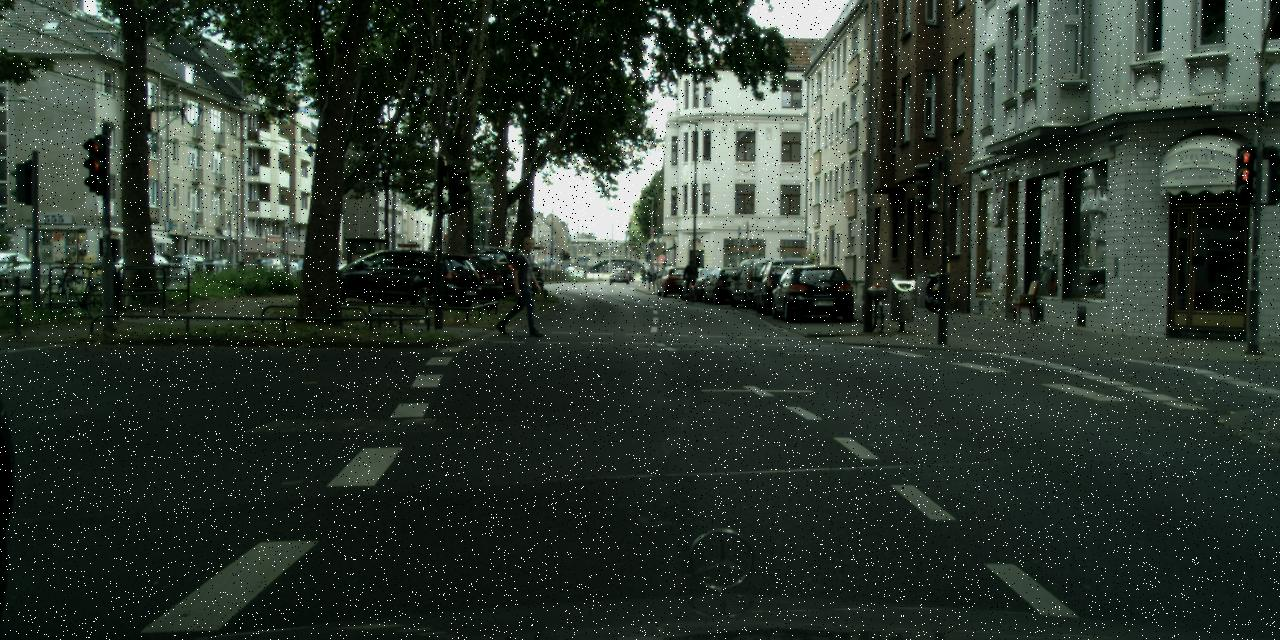ped: (504, 236, 543, 333), (684, 260, 698, 296), (639, 265, 651, 285), (161, 248, 170, 272)
